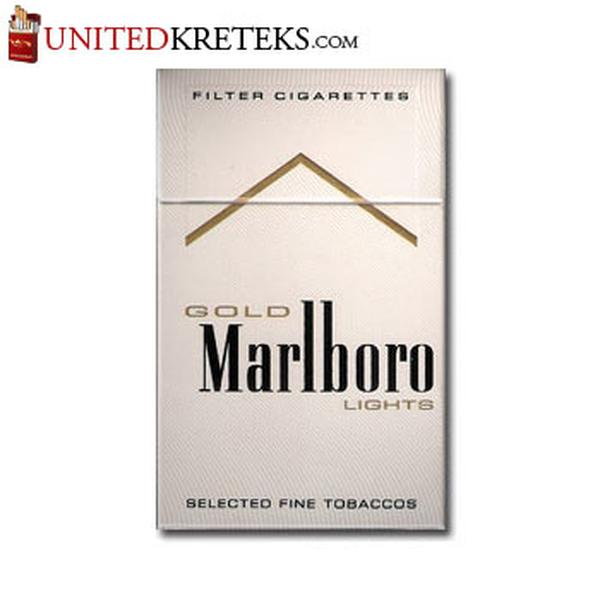marlboro_gold: (162, 71, 442, 532)
